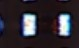COMP: (16, 9, 76, 42)
